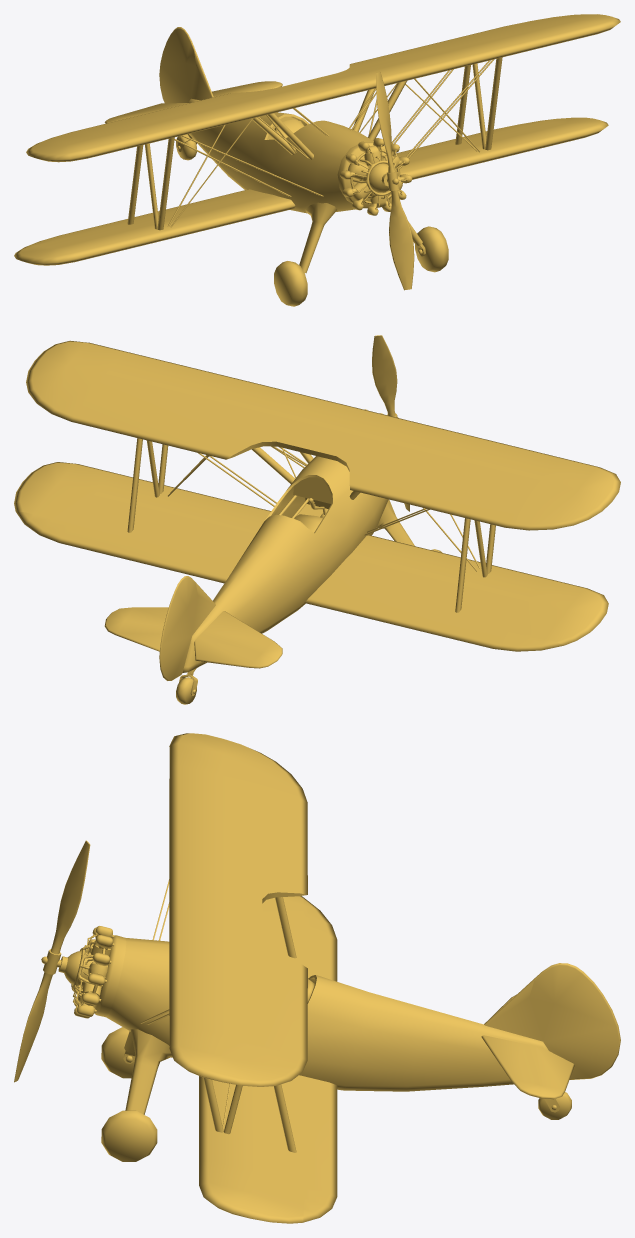
File: AeroPlane.fbx
The picture shows the model from 3 angles, top to bottom: view 1: azimuth 30°, elevation 25°; view 2: azimuth 150°, elevation 25°; view 3: azimuth 270°, elevation 25°; orthographic projection. The views are drawn at different scales.
Visible parts, largest first — view 1: aeroplane mesh; view 2: aeroplane mesh; view 3: aeroplane mesh.
Part boxes in pixels (<box>): aeroplane mesh: <box>14,14,620,306</box>; aeroplane mesh: <box>14,335,620,704</box>; aeroplane mesh: <box>14,733,620,1223</box>.
Size of the model in its own units: 577 by 218 by 432.
